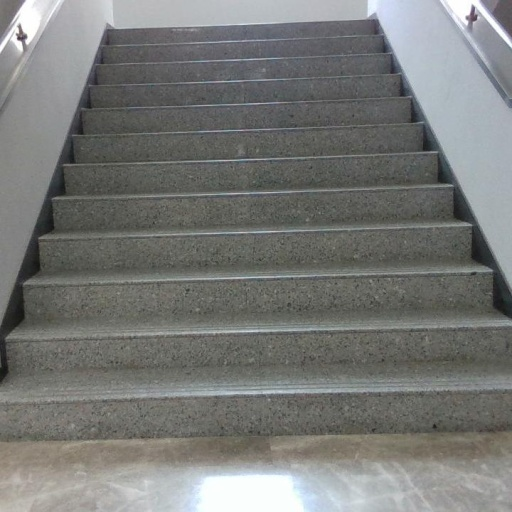Stairs: (0, 20, 512, 439)
